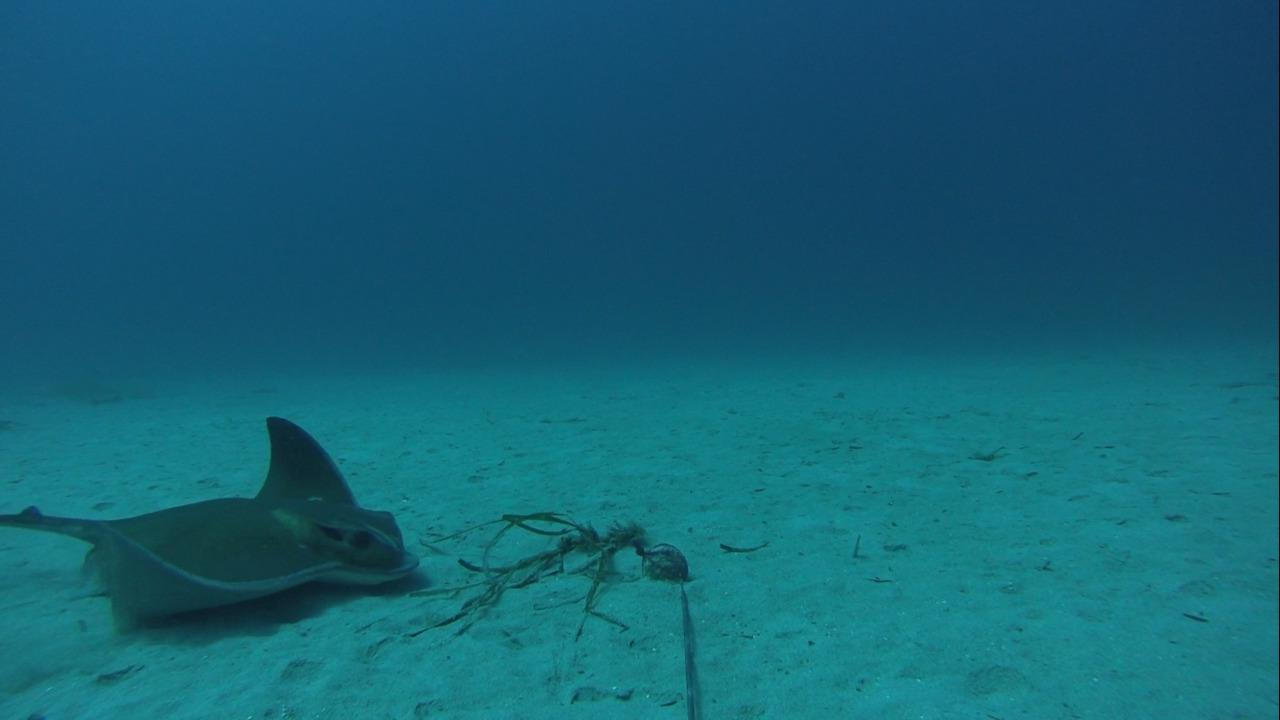myliobatis: (14, 407, 423, 636)
